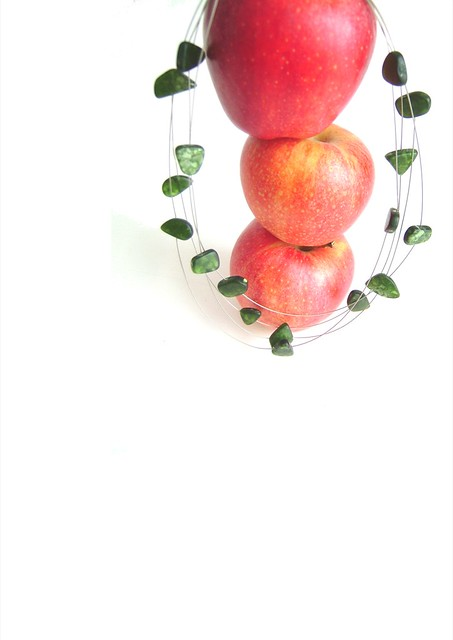apple: (200, 1, 380, 144), (235, 119, 375, 248), (224, 215, 359, 331)
